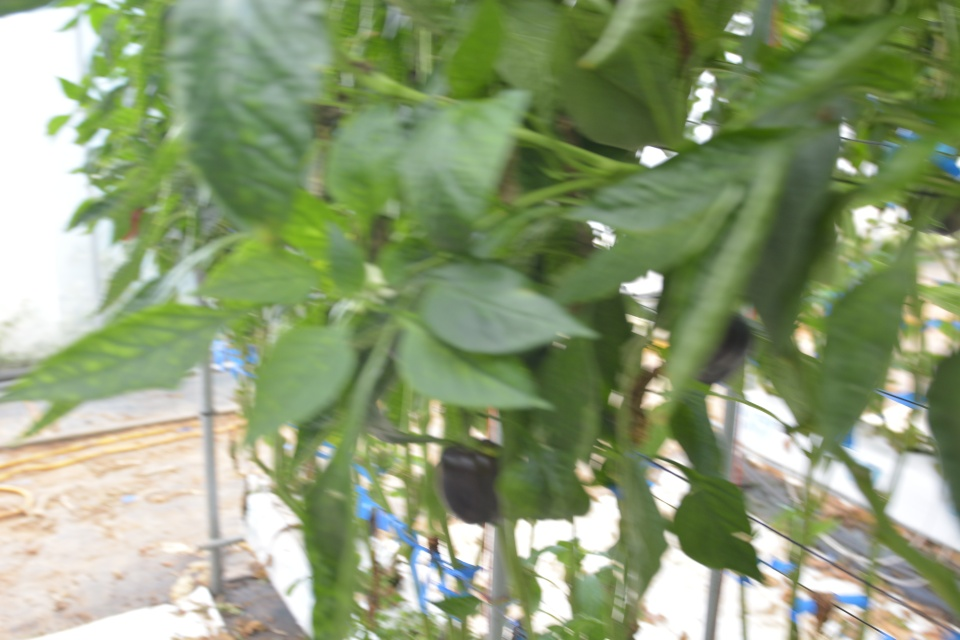fruit: (440, 435, 503, 526), (698, 314, 751, 389)
